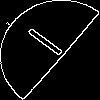I: (25, 25, 74, 65)
